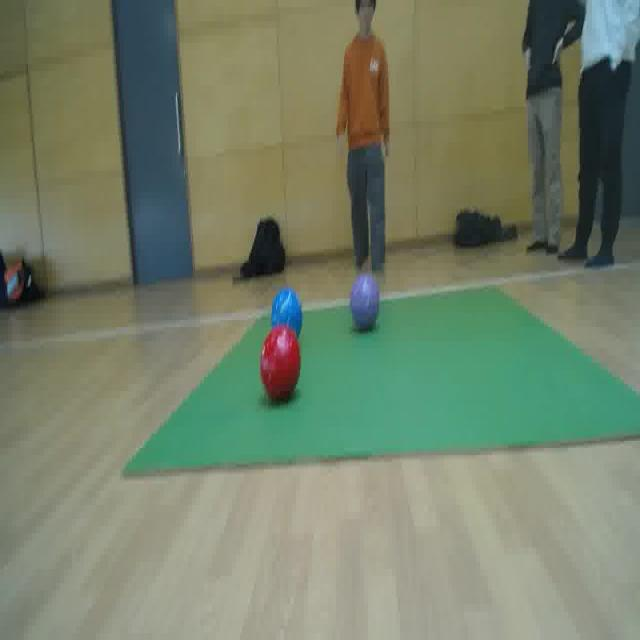blue_ball: (267, 286, 302, 342)
purple_ball: (350, 273, 382, 334)
red_ball: (261, 326, 302, 405)
